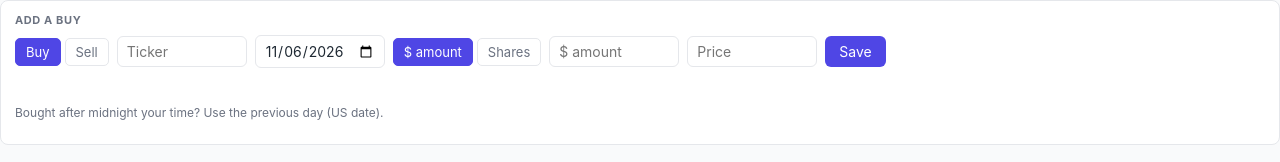
price is pre-filled with that day's close and the share preview updates
In the field labelled "Ticker": (182, 52) [117,36,247,67], type "nvda"
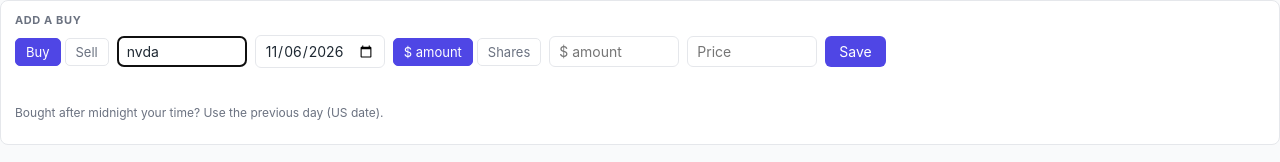
Press Tab
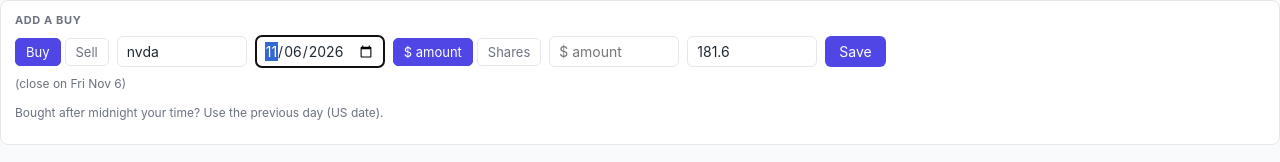
Result: the number field named "Price per share" holds "181.6" at [687,36,817,67]
Result: the text "(close on Fri Nov 6)" is shown at [15,76,126,91]
In the number field named "Amount in dollars": (614, 52) [549,36,679,67], type "25"
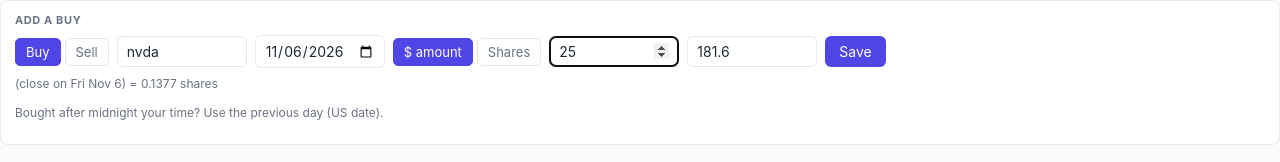
Result: the text "= 0.1377 shares" is shown at [130,76,218,91]
